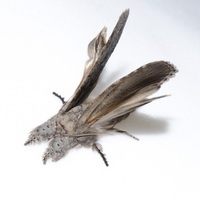insect: (24, 9, 177, 165)
